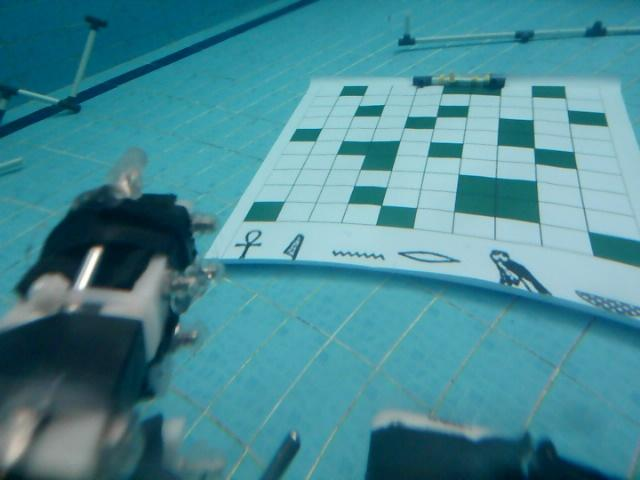Ankh: (233, 222, 269, 263)
Mouth: (399, 247, 461, 267)
Owl: (486, 249, 560, 301)
Reed: (283, 228, 309, 264)
Water: (332, 243, 386, 266)
